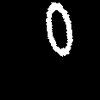chain: (46, 3, 72, 55)
